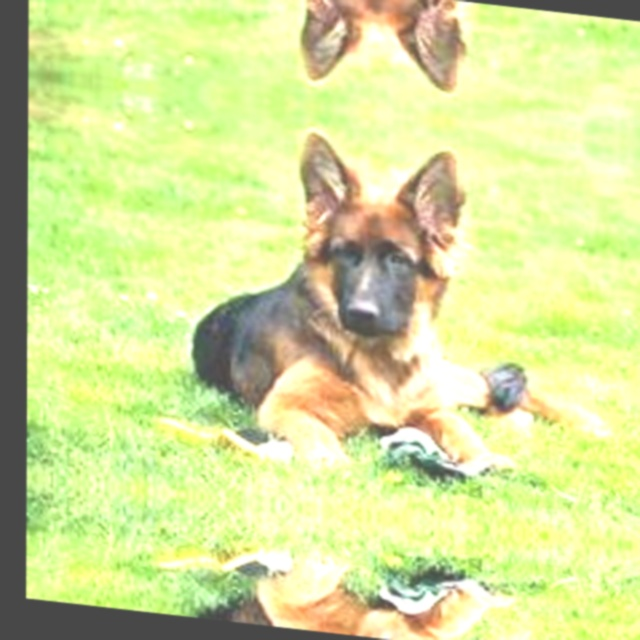dog: (161, 102, 624, 544), (161, 491, 622, 640), (163, 0, 624, 128)
